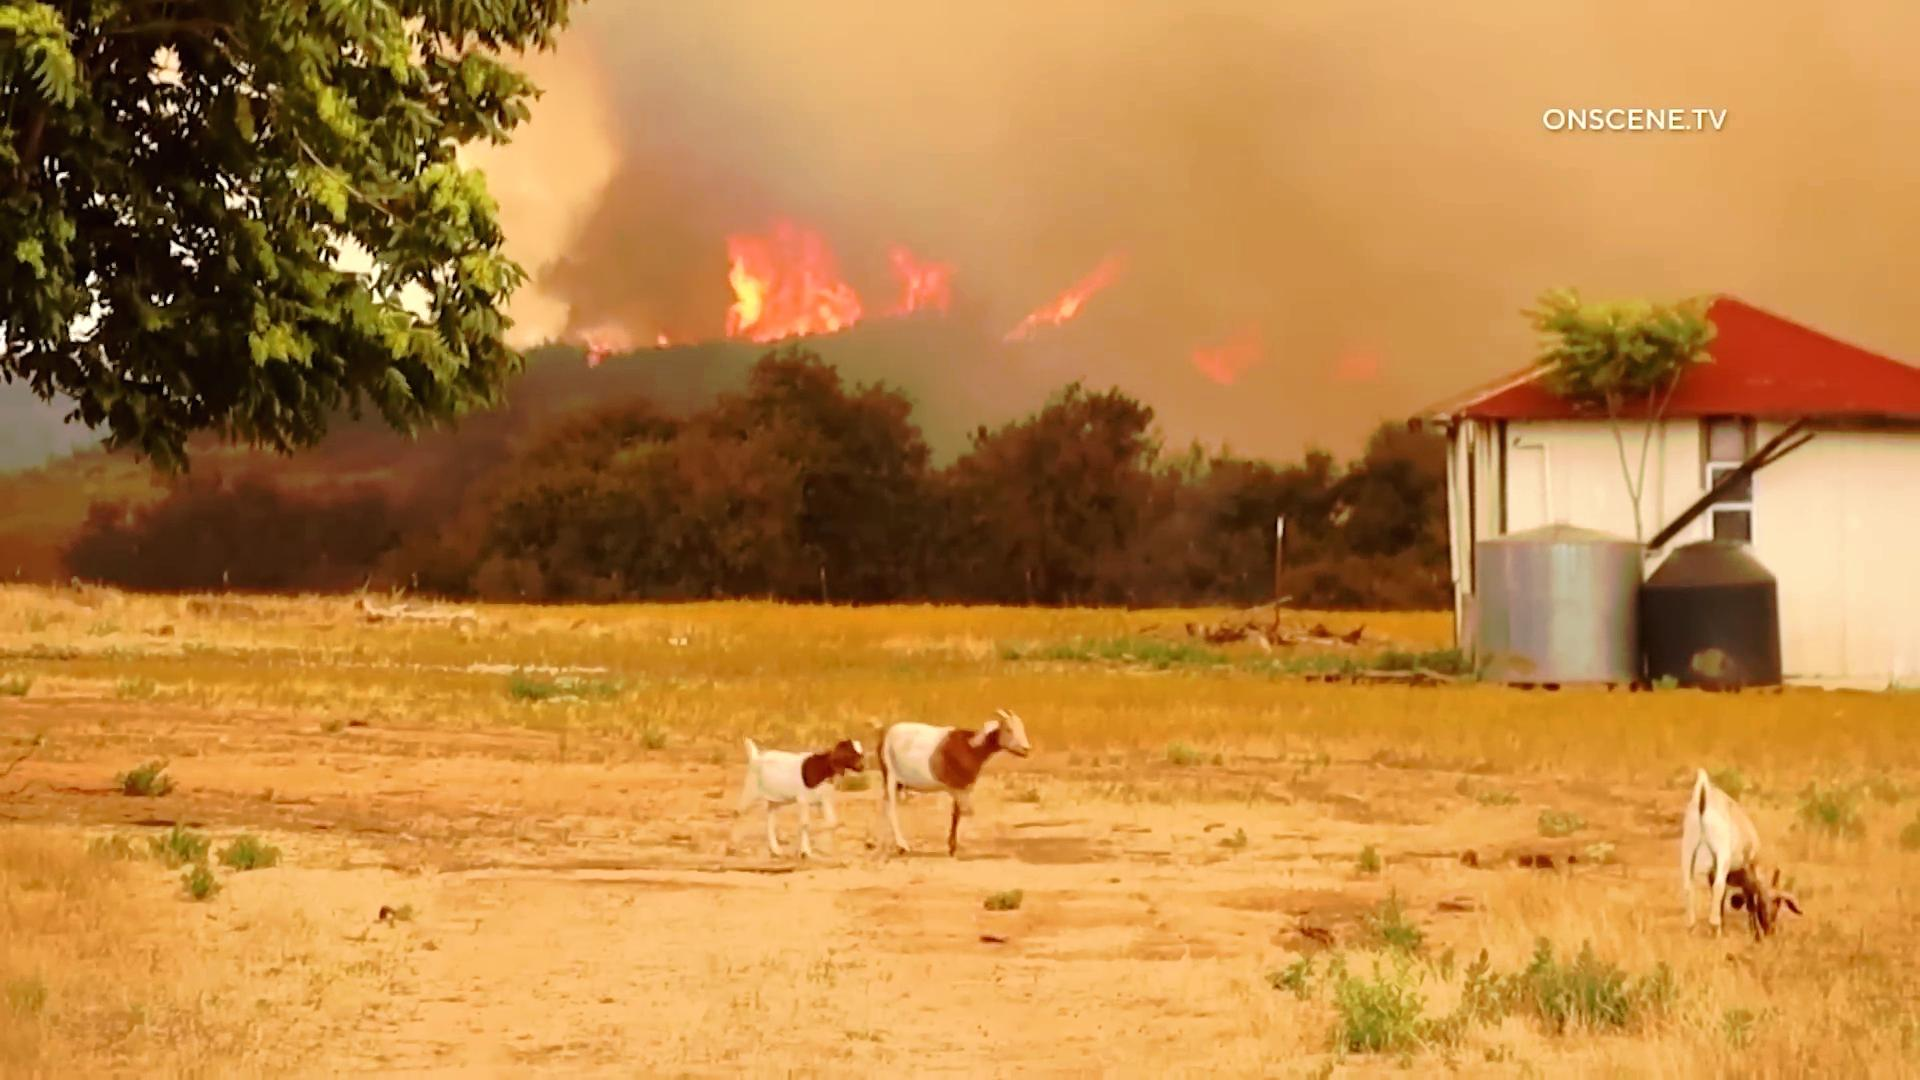fire: (703, 195, 869, 348)
